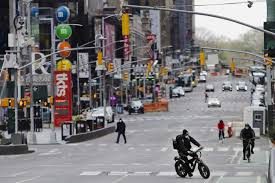mask: (179, 125, 190, 140), (242, 121, 251, 128), (115, 116, 122, 121)
